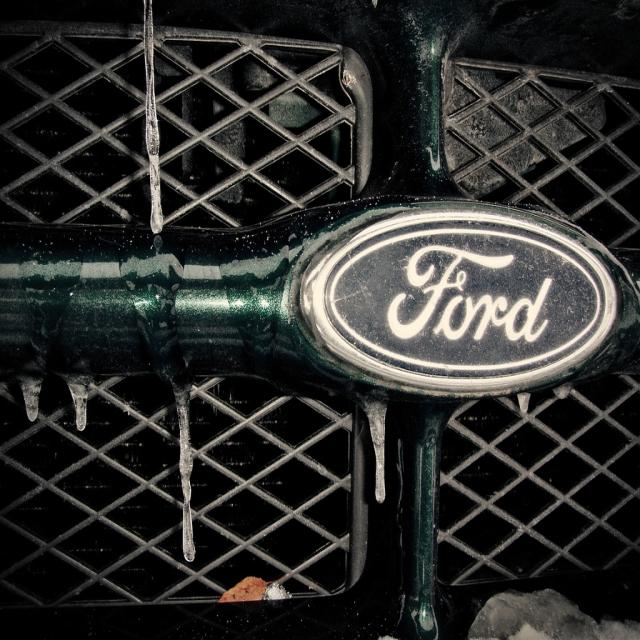ford: (327, 222, 606, 378)
